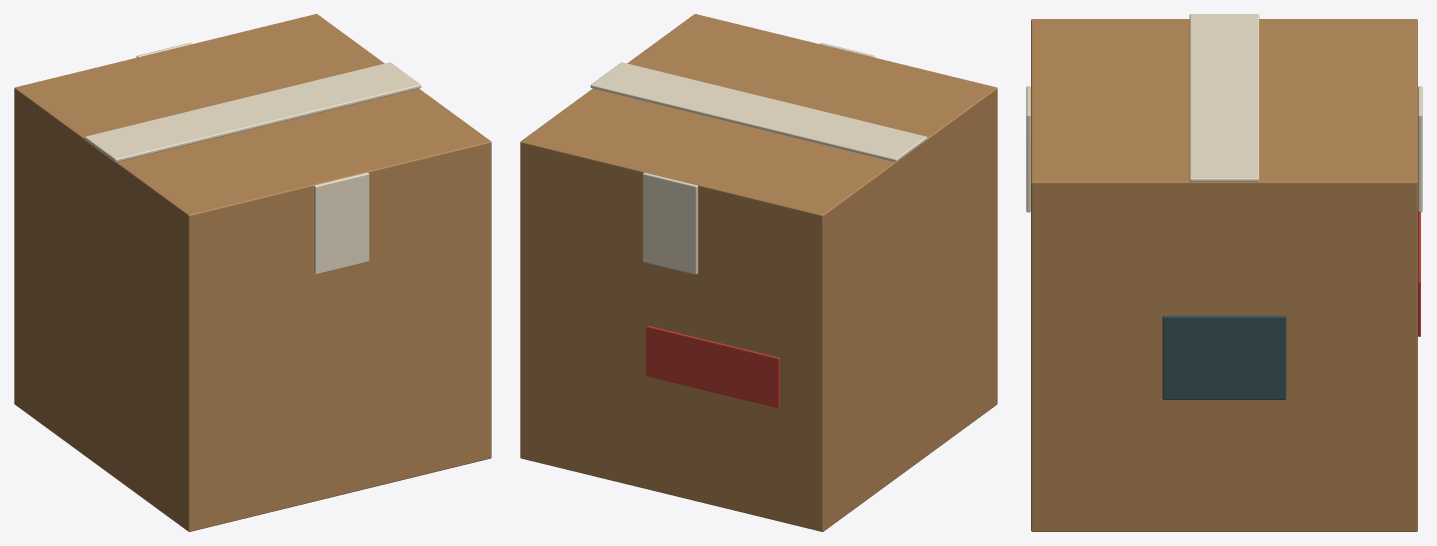
File: SM_PRP_Caixa.fbx
3 renders of one model, left to right at view 1: azimuth 30°, elevation 25°; view 2: azimuth 150°, elevation 25°; view 3: azimuth 270°, elevation 25°, orthographic. The views are drawn at different scales.
Parts seen in each view (by area): view 1: SM_PRP_Caixa; view 2: SM_PRP_Caixa; view 3: SM_PRP_Caixa.
Part boxes in pixels (x1,y1,x2,y2): SM_PRP_Caixa: [14, 14, 491, 531]; SM_PRP_Caixa: [520, 14, 997, 531]; SM_PRP_Caixa: [1026, 14, 1422, 531].
Size of the model in its own units: 0.5065 by 0.506 by 0.512.
